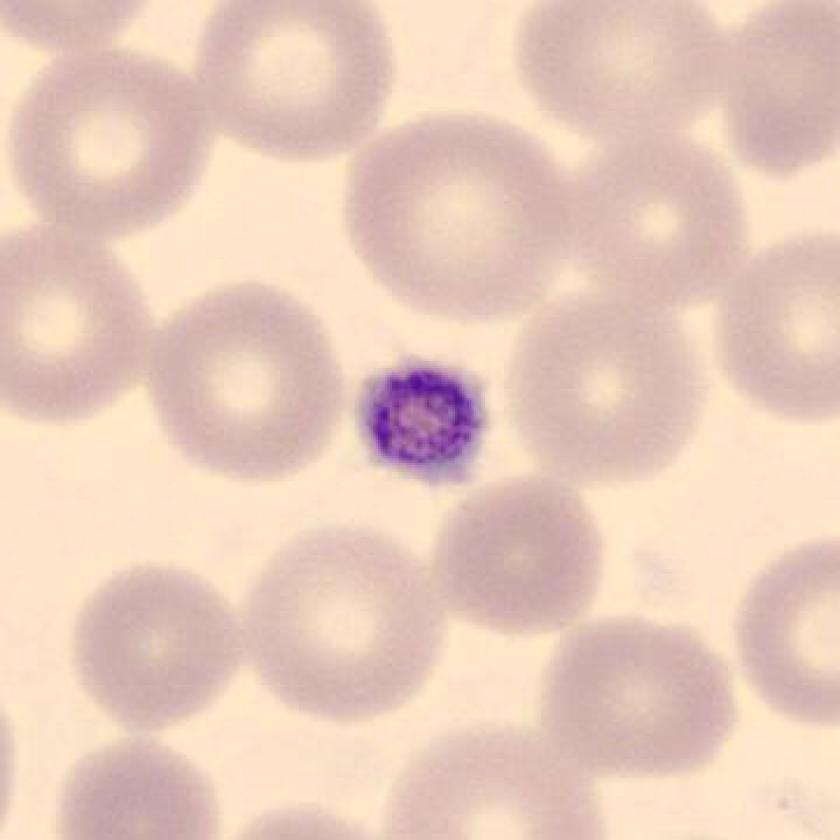platelets: (344, 339, 505, 501)
